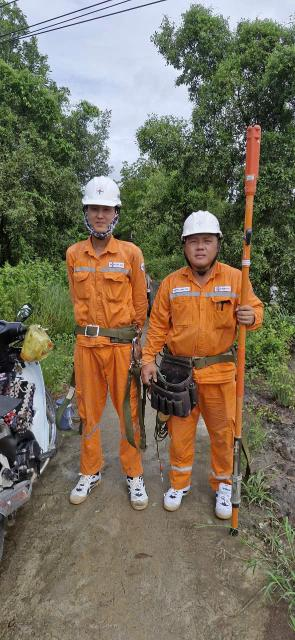harness: (145, 345, 243, 379), (69, 311, 146, 352)
helmet: (81, 172, 133, 221), (174, 204, 226, 243)
shoes: (67, 462, 104, 509), (118, 469, 152, 513), (207, 478, 236, 519), (167, 468, 191, 516)
